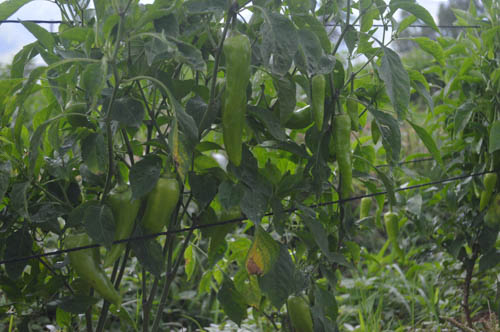ChiliPepper: (65, 237, 119, 302), (99, 190, 139, 264), (145, 177, 177, 234), (331, 116, 352, 190), (289, 294, 314, 327), (342, 93, 364, 130), (380, 214, 403, 248), (313, 73, 326, 131)
